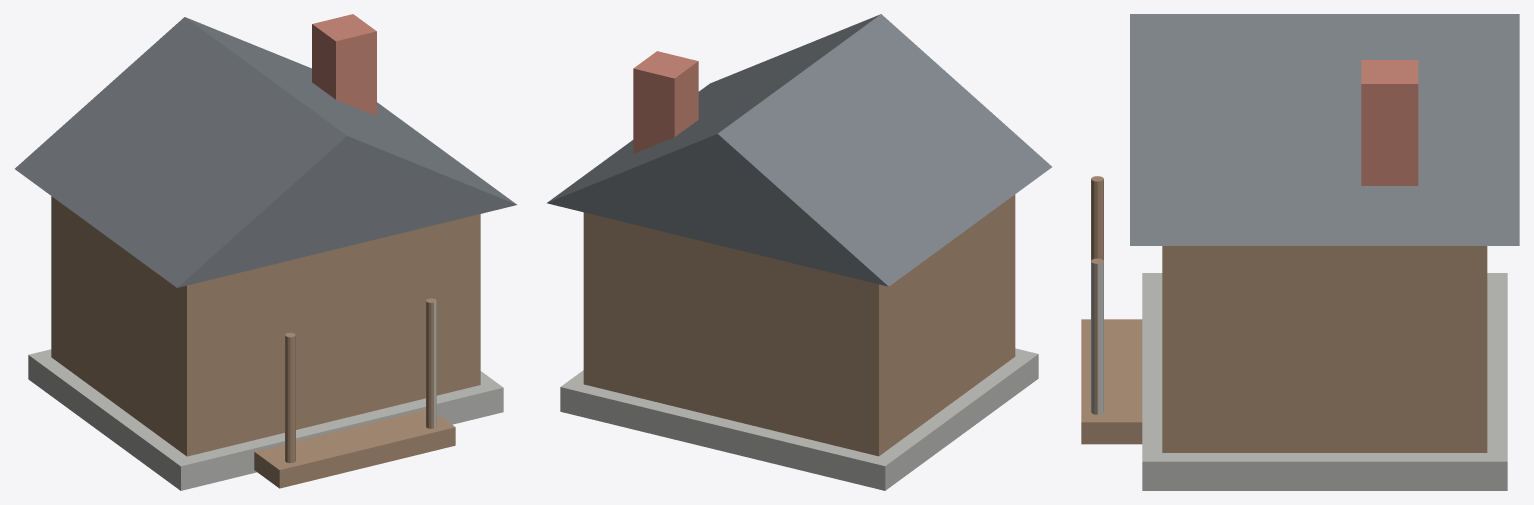
Rendered from cabin_log_timber.glb.
3 views of the same model, side by side, from view 1: azimuth 30°, elevation 25°; view 2: azimuth 150°, elevation 25°; view 3: azimuth 270°, elevation 25° (orthographic). The views are drawn at different scales.
Parts seen in each view (by area): view 1: cabin_log_timber; view 2: cabin_log_timber; view 3: cabin_log_timber.
Part boxes in pixels (box(x1,y1,x2,y2)): cabin_log_timber: box(15, 14, 516, 490); cabin_log_timber: box(547, 14, 1051, 490); cabin_log_timber: box(1081, 14, 1519, 490).
Size of the model in its own units: 5.8 by 5.25 by 5.4.
